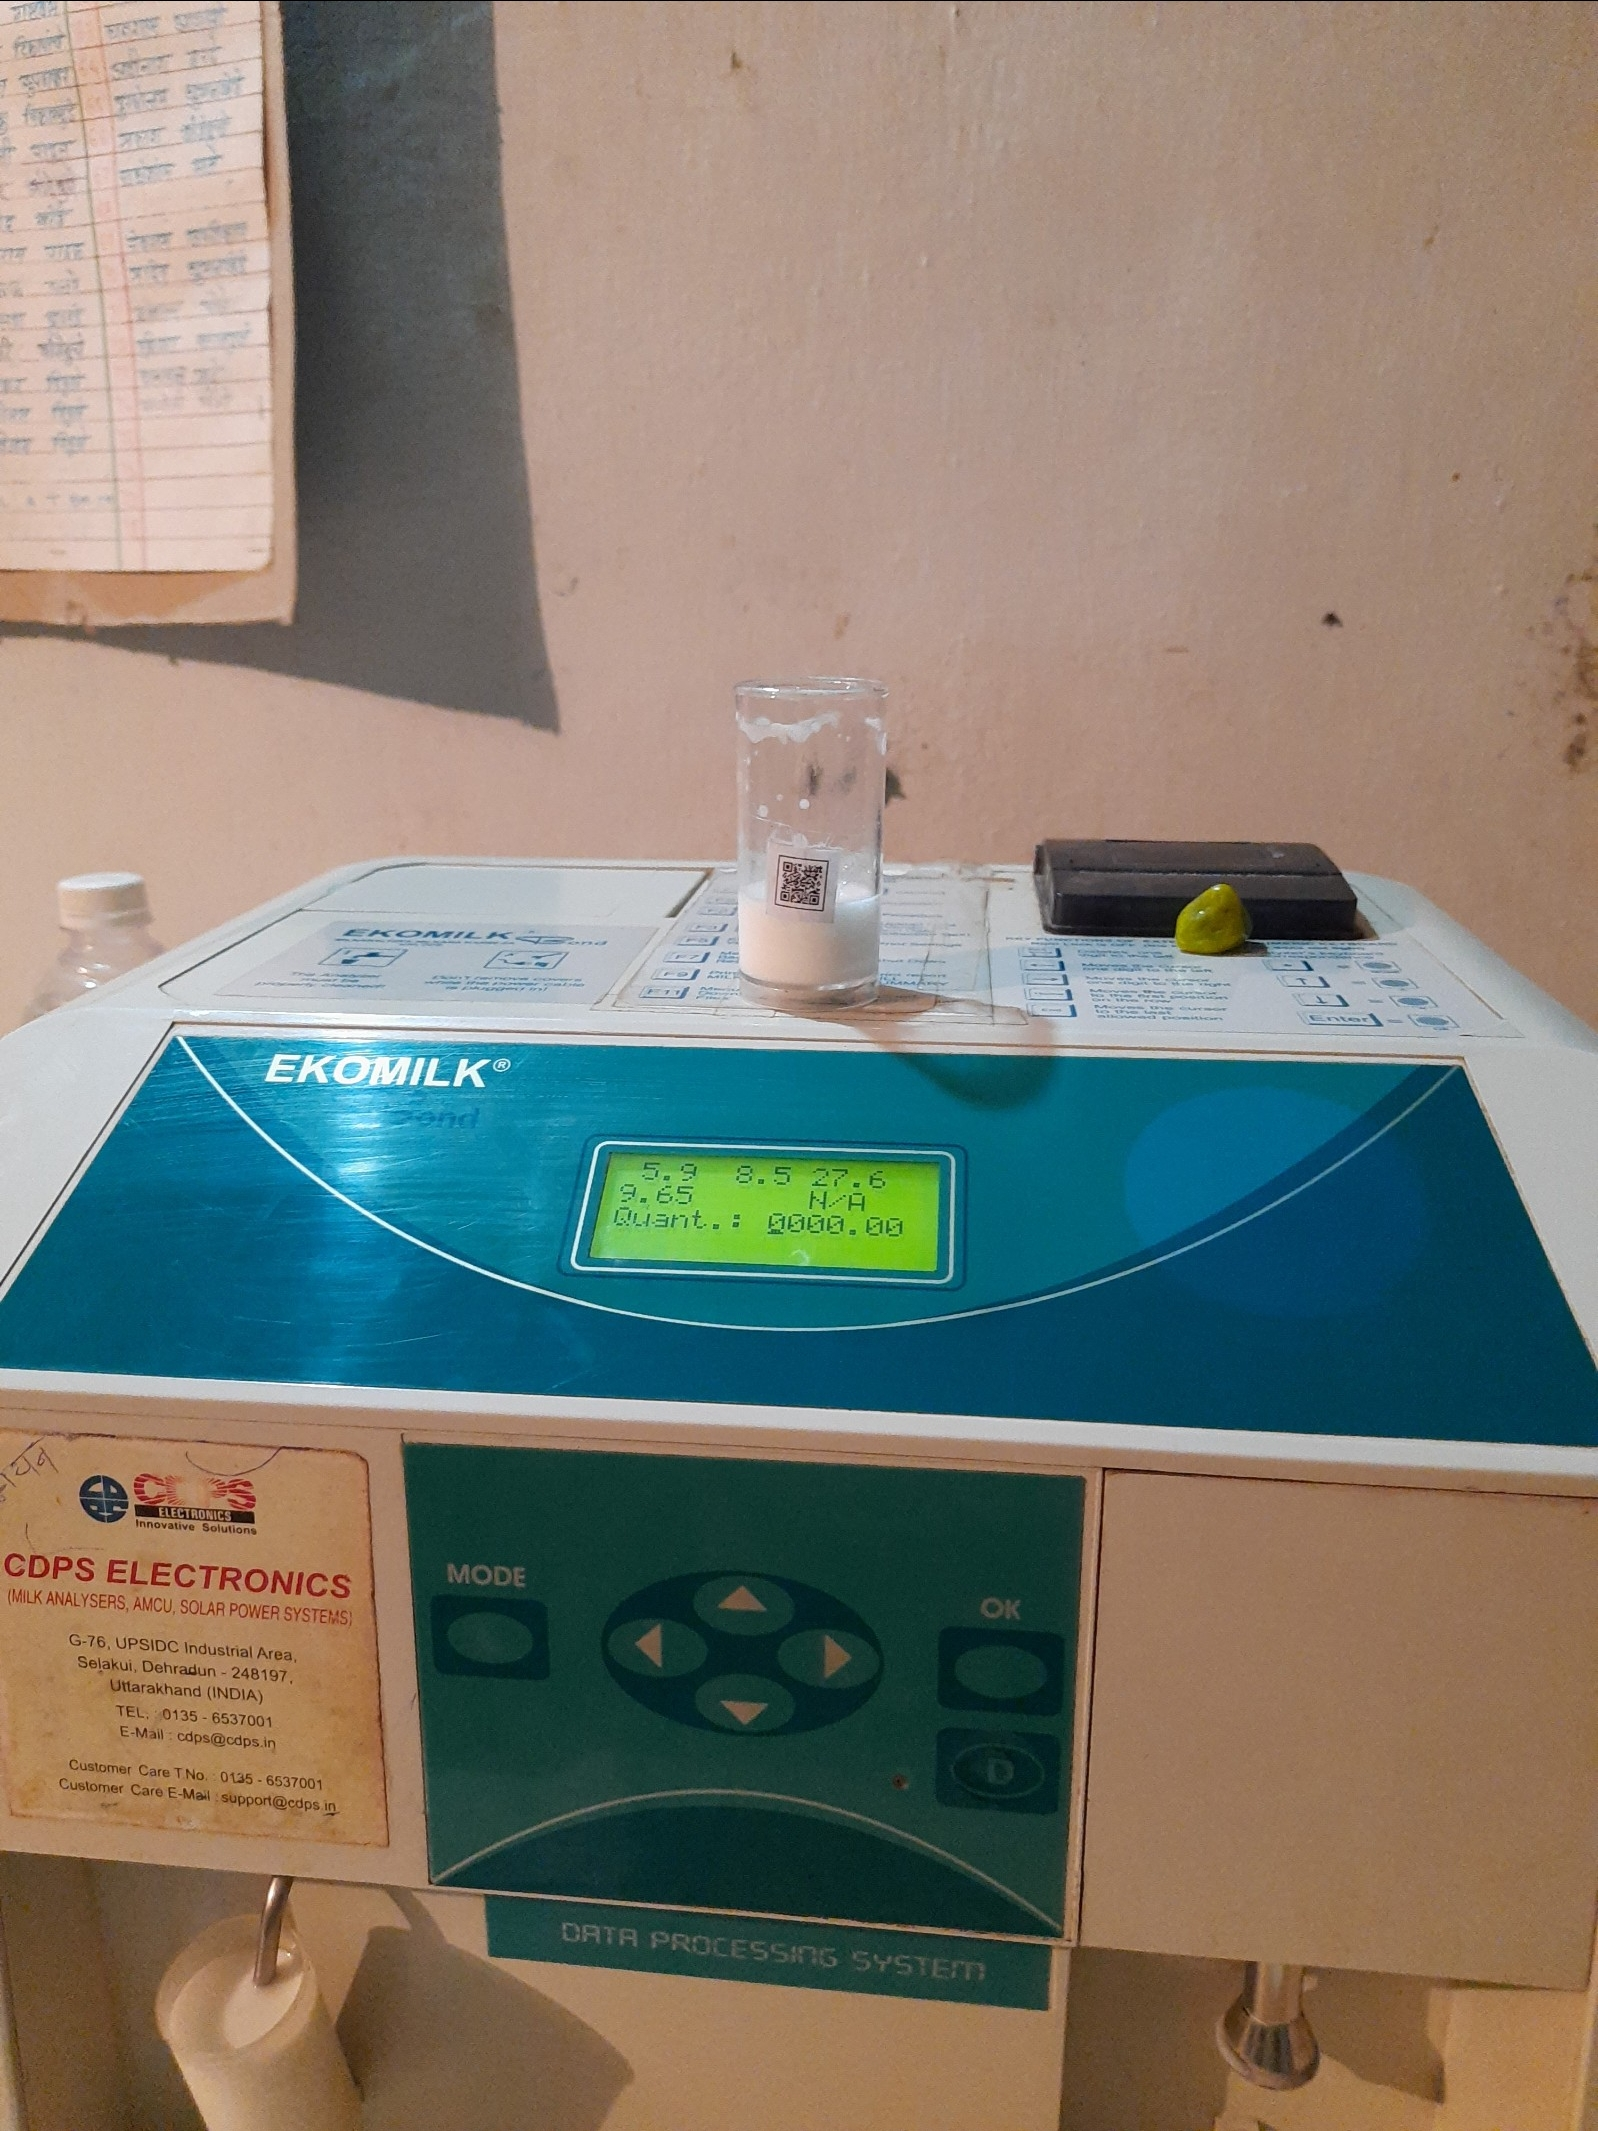lcd: (556, 1126, 1009, 1336)
qr: (760, 829, 864, 941)
